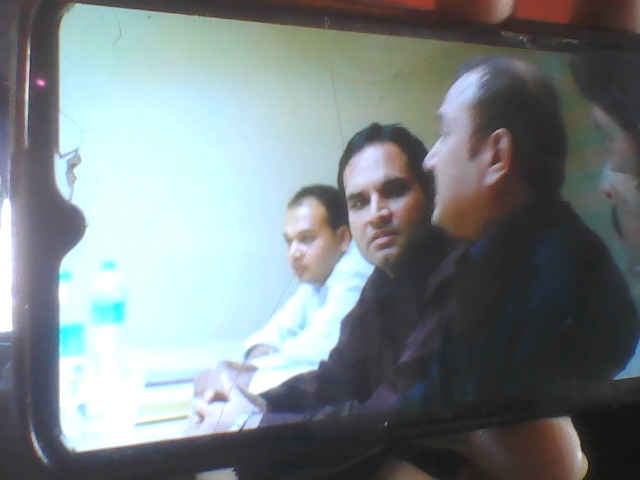fake: (333, 101, 450, 267)
